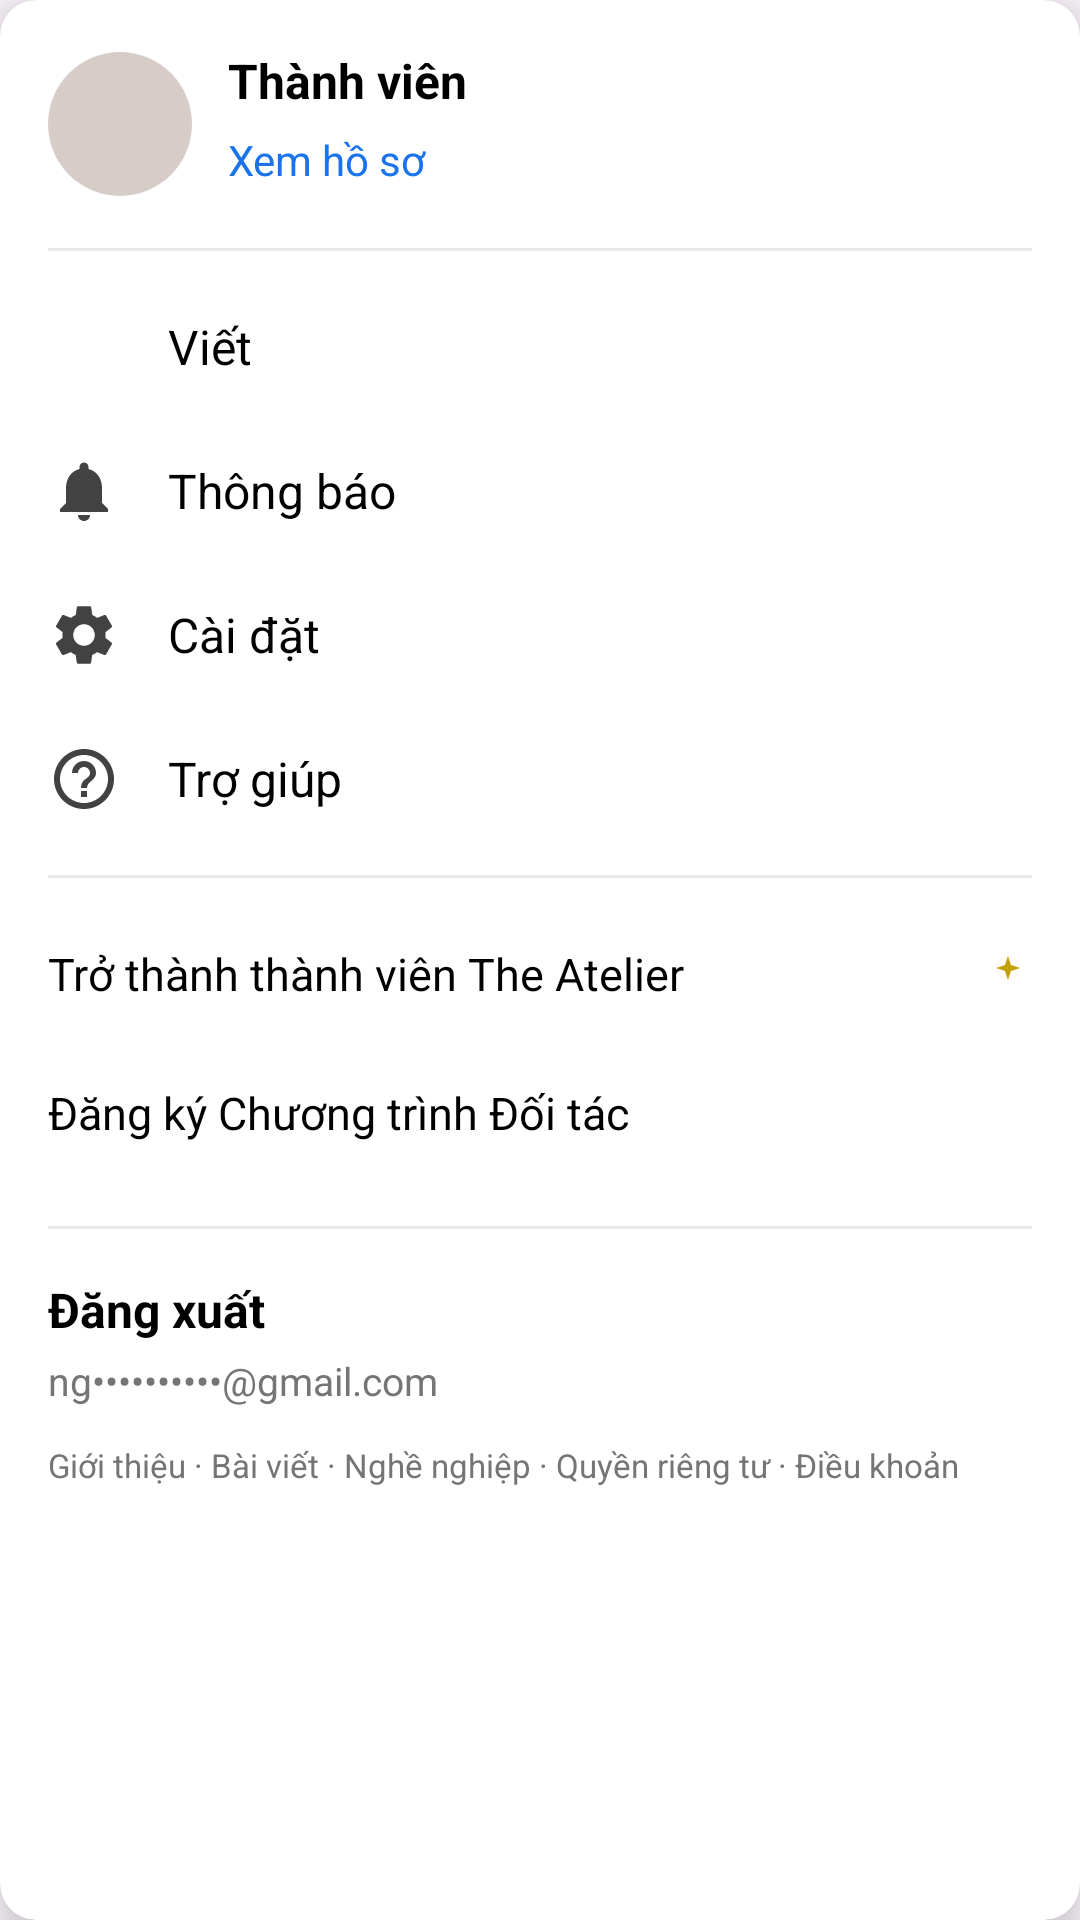

Named icons in this screenshot (1080w x 1920h) and their bounding boxes, (x1, y1, x2, y2):
help: (54, 749, 114, 809)
notifications: (60, 462, 108, 521)
settings: (56, 606, 112, 664)
sparkle: (996, 956, 1020, 980)
